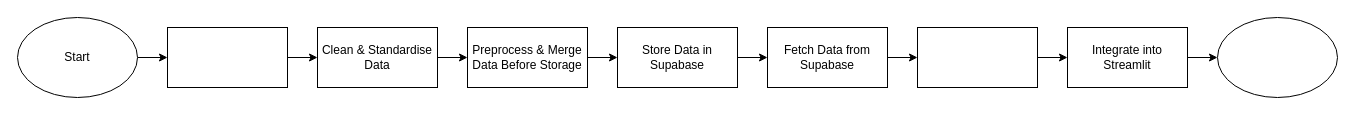
This 1355x115 diagram has some shape labels left out. Each missing label, with the centre of its shape:
"Cache Data for Faster Access" belongs at [977,57].
"End" belongs at [1277,57].
"Scrape Product Data" belongs at [227,57].
